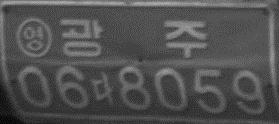0: (153, 66, 188, 112), (17, 66, 52, 109)
5: (194, 67, 227, 115)
6: (55, 64, 89, 109)
8: (118, 66, 152, 111)
9: (231, 68, 266, 115)
광주_D: (58, 18, 208, 57)
다: (92, 69, 116, 107)
영: (15, 15, 53, 59)
